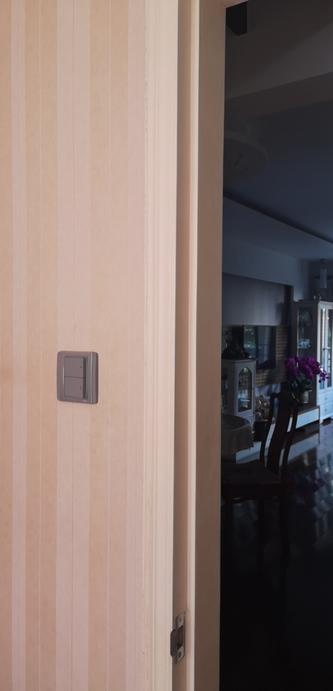switch: (57, 374, 92, 400), (58, 354, 89, 379)
